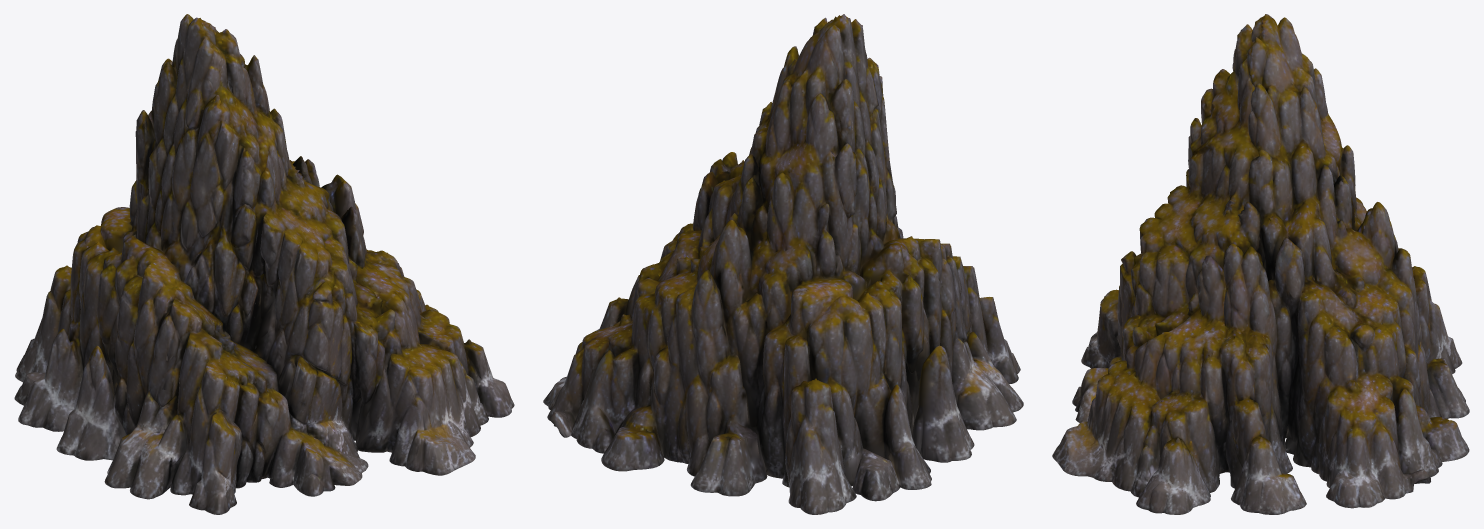
File: sea_stack.glb
3 views of the same model, side by side, from view 1: azimuth 30°, elevation 25°; view 2: azimuth 150°, elevation 25°; view 3: azimuth 270°, elevation 25° (orthographic). The views are drawn at different scales.
Visible parts, largest first — view 1: material; view 2: material; view 3: material.
Boxes of the visible parts, left/top/right/bottom form: material: left=14, top=14, right=514, bottom=514; material: left=543, top=14, right=1023, bottom=514; material: left=1052, top=14, right=1469, bottom=514.
Bounding box in the file's own units: 0.7889 × 0.7859 × 0.7709.
Materials: 1 (1 with a texture image).
